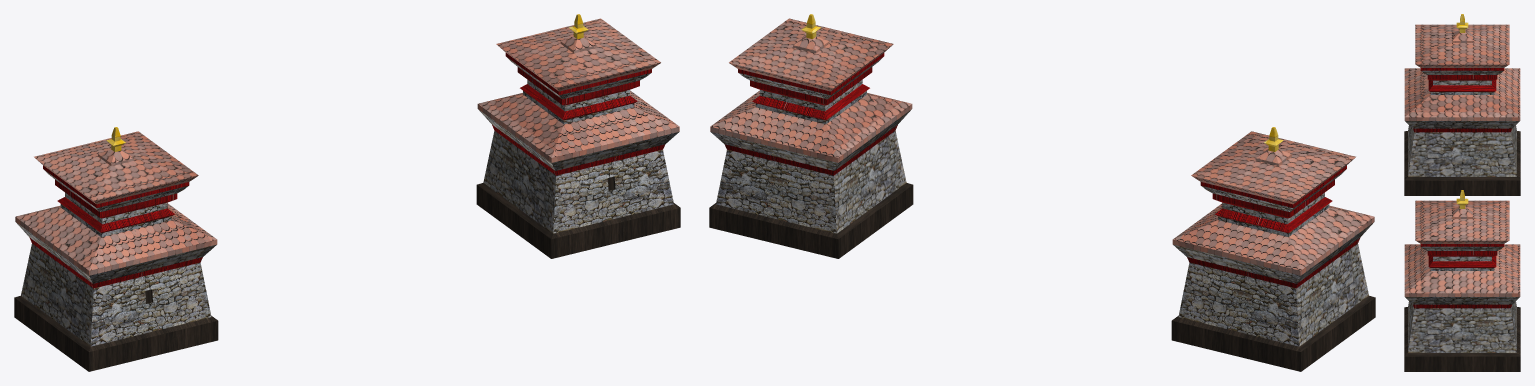
Rendered from casetas2templos.fbx.
The picture shows the model from 3 angles, left to right: view 1: azimuth 30°, elevation 25°; view 2: azimuth 150°, elevation 25°; view 3: azimuth 270°, elevation 25°; orthographic projection. The views are drawn at different scales.
Visible parts, largest first — view 1: Cube.005; view 2: Cube.005; view 3: Cube.005.
Part boxes in pixels (x1=…): Cube.005: x1=14, y1=14, x2=680, y2=371; Cube.005: x1=709, y1=14, x2=1375, y2=371; Cube.005: x1=1404, y1=14, x2=1520, y2=371.
Size of the model in its own units: 627 by 204 by 137.
5 materials, 5 textured.
